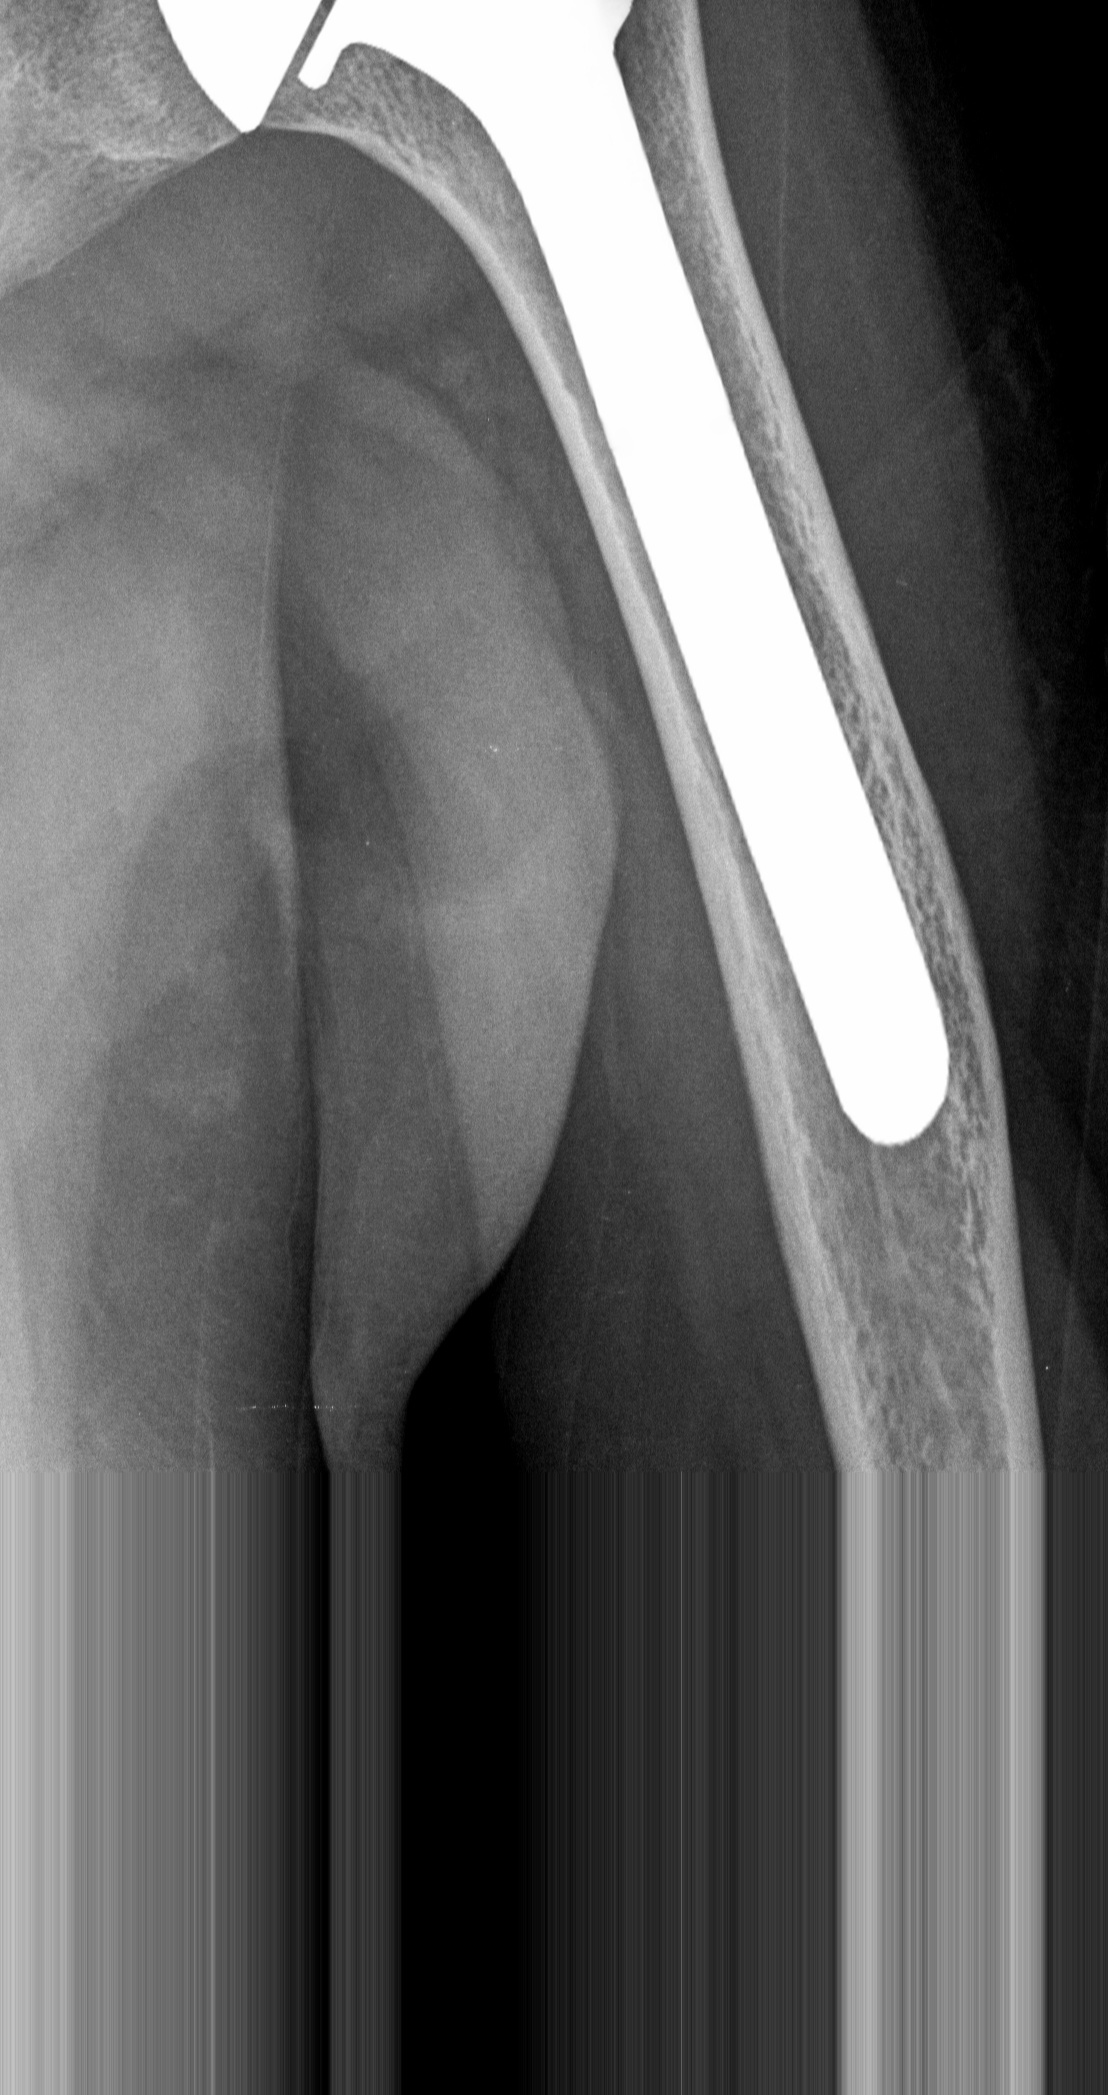Shoulder-Olympia-Wright: (120, 3, 958, 1158)
